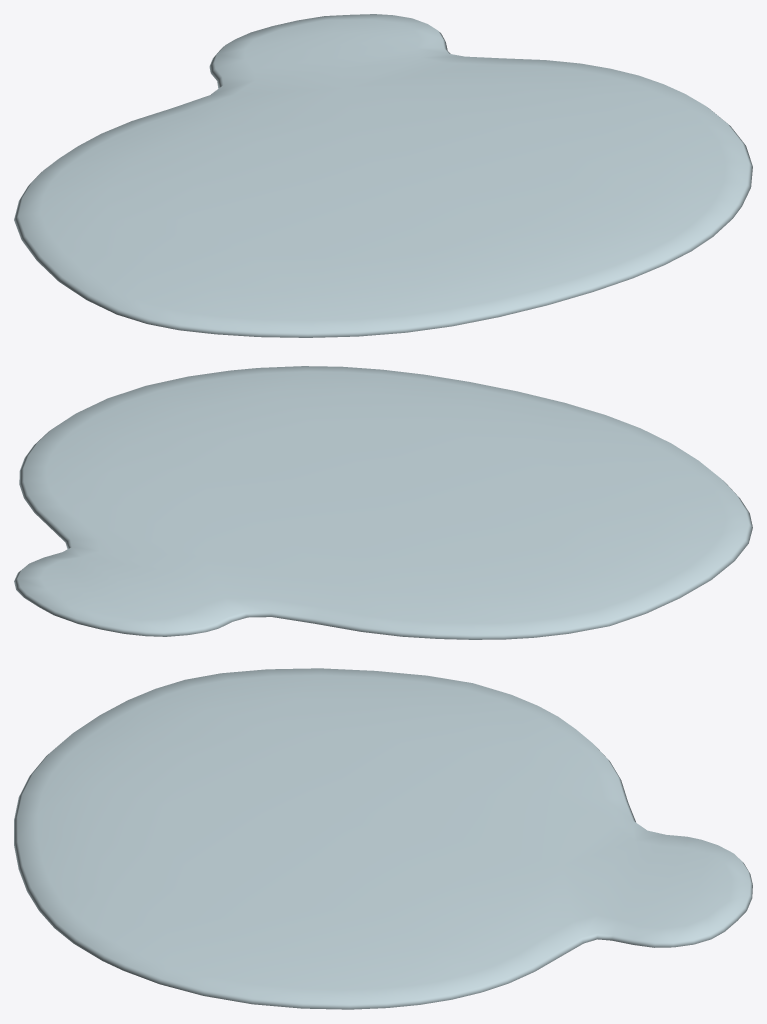
File: DroolPuddle.fbx
3 renders of one model, top to bottom at view 1: azimuth 30°, elevation 25°; view 2: azimuth 150°, elevation 25°; view 3: azimuth 270°, elevation 25°, orthographic. The views are drawn at different scales.
Visible parts, largest first — view 1: DroolPuddle; view 2: DroolPuddle; view 3: DroolPuddle.
Part boxes in pixels (<box>): DroolPuddle: <box>14,14,752,337</box>; DroolPuddle: <box>14,366,752,639</box>; DroolPuddle: <box>14,668,752,1009</box>.
Size of the model in its own units: 0.88 by 0.025 by 0.81.
